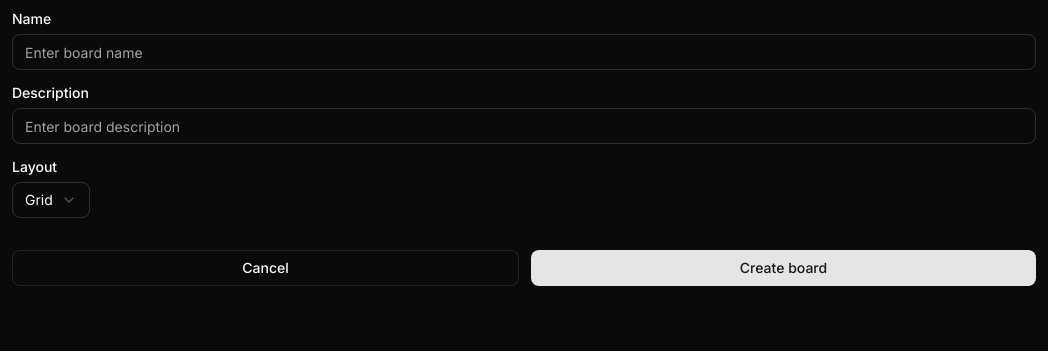
it: CreateBoardForm › should show validation errors for empty fields
Click the button "Create board". click: click(784, 268)
box: [531,250,1036,286]
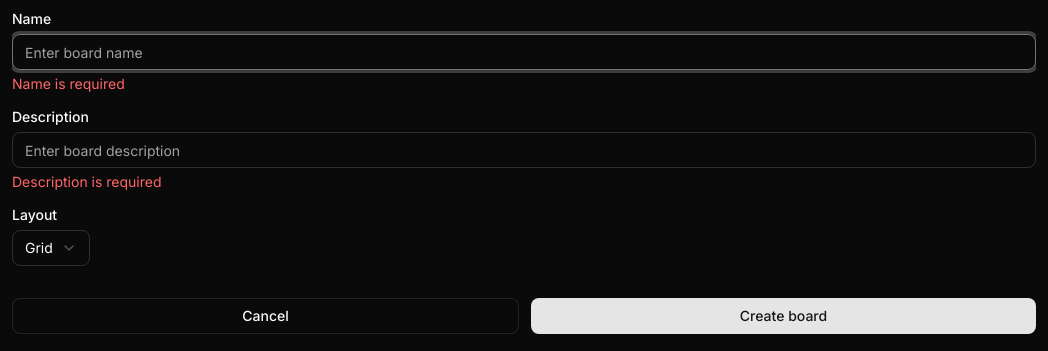
Expected: the text "Name is required" is shown, [12,75,125,92]
Expected: the text "Description is required" is shown, [12,173,162,190]
